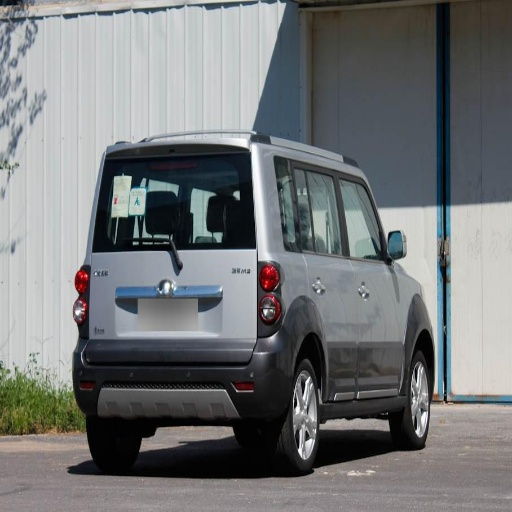back_bumper: (75, 329, 293, 416)
back_right_door: (276, 157, 358, 398)
trunk: (93, 252, 258, 361)
